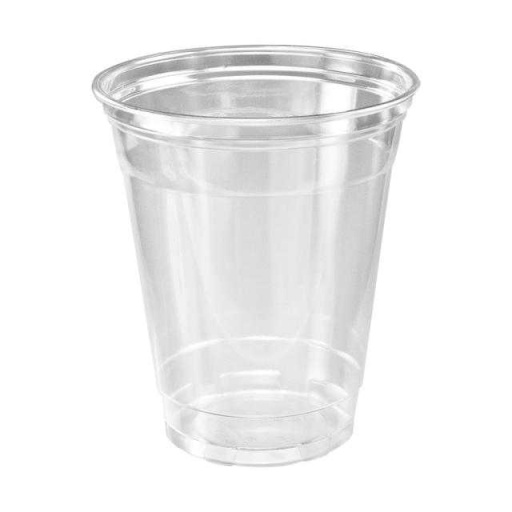cup: (91, 44, 422, 466)
